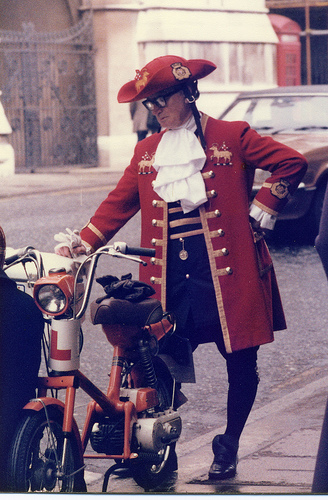without_mask: (137, 79, 203, 135)
